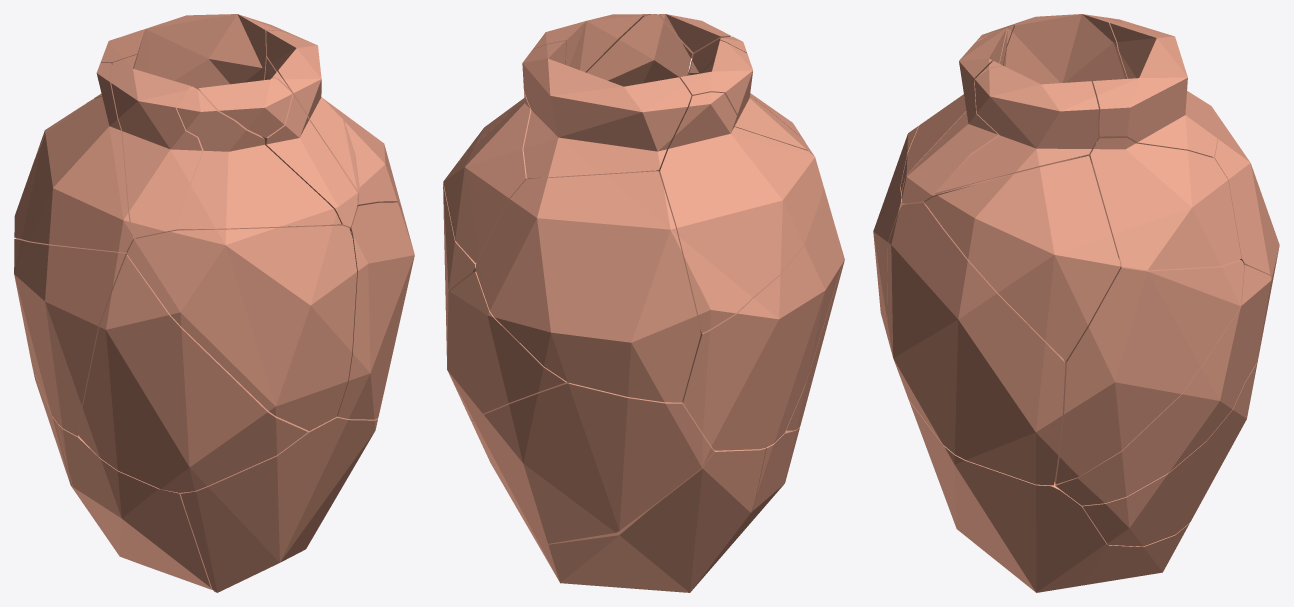
The model's file is Vase2_Broken.fbx.
The picture shows the model from 3 angles, left to right: view 1: azimuth 30°, elevation 25°; view 2: azimuth 150°, elevation 25°; view 3: azimuth 270°, elevation 25°; orthographic projection.
Parts seen in each view (by area): view 1: Vase2_cell.035, Vase2_cell.042, Vase2_cell.031, Vase2_cell.034, Vase2_cell.039, Vase2_cell.041, Vase2_cell.037, Vase2_cell.030, Vase2_cell.045, Vase2_cell.032, Vase2_cell.047, Vase2_cell.036 (+3 smaller); view 2: Vase2_cell.049, Vase2_cell.038, Vase2_cell.034, Vase2_cell.039, Vase2_cell.040, Vase2_cell.032, Vase2_cell.043, Vase2_cell.033, Vase2_cell.047, Vase2_cell.037, Vase2_cell.036, Vase2_cell.045 (+4 smaller); view 3: Vase2_cell.030, Vase2_cell.044, Vase2_cell.046, Vase2_cell.033, Vase2_cell.031, Vase2_cell.043, Vase2_cell.036, Vase2_cell.032, Vase2_cell.038, Vase2_cell.037, Vase2_cell.049, Vase2_cell.047 (+4 smaller).
Boxes of the visible parts, bbox=[...] form: Vase2_cell.035: bbox=[127, 225, 356, 430]; Vase2_cell.042: bbox=[78, 254, 307, 492]; Vase2_cell.031: bbox=[180, 416, 377, 592]; Vase2_cell.034: bbox=[14, 63, 135, 252]; Vase2_cell.039: bbox=[14, 238, 127, 436]; Vase2_cell.041: bbox=[176, 86, 341, 229]; Vase2_cell.037: bbox=[111, 54, 205, 238]; Vase2_cell.030: bbox=[337, 202, 414, 419]; Vase2_cell.045: bbox=[58, 424, 212, 589]; Vase2_cell.032: bbox=[94, 14, 290, 98]; Vase2_cell.047: bbox=[262, 58, 357, 227]; Vase2_cell.036: bbox=[266, 30, 358, 189]; Vase2_cell.049: bbox=[475, 170, 700, 402]; Vase2_cell.038: bbox=[472, 383, 713, 543]; Vase2_cell.034: bbox=[657, 92, 823, 332]; Vase2_cell.039: bbox=[682, 187, 842, 450]; Vase2_cell.040: bbox=[520, 447, 765, 592]; Vase2_cell.032: bbox=[522, 40, 691, 177]; Vase2_cell.043: bbox=[446, 271, 568, 422]; Vase2_cell.033: bbox=[443, 92, 540, 262]; Vase2_cell.047: bbox=[586, 14, 692, 86]; Vase2_cell.037: bbox=[680, 40, 813, 154]; Vase2_cell.036: bbox=[533, 14, 651, 72]; Vase2_cell.045: bbox=[712, 427, 799, 566]; Vase2_cell.030: bbox=[887, 203, 1065, 485]; Vase2_cell.044: bbox=[1055, 258, 1243, 484]; Vase2_cell.046: bbox=[924, 155, 1120, 360]; Vase2_cell.033: bbox=[1090, 138, 1241, 270]; Vase2_cell.031: bbox=[909, 400, 1107, 592]; Vase2_cell.043: bbox=[1054, 265, 1271, 505]; Vase2_cell.036: bbox=[934, 66, 1098, 194]; Vase2_cell.032: bbox=[1092, 22, 1217, 157]; Vase2_cell.038: bbox=[1082, 332, 1263, 546]; Vase2_cell.037: bbox=[1003, 14, 1127, 85]; Vase2_cell.049: bbox=[1186, 91, 1279, 288]; Vase2_cell.047: bbox=[901, 61, 1097, 204].
Size of the model in its own units: 62.88 by 87.43 by 63.53.
1 material, 1 textured.
